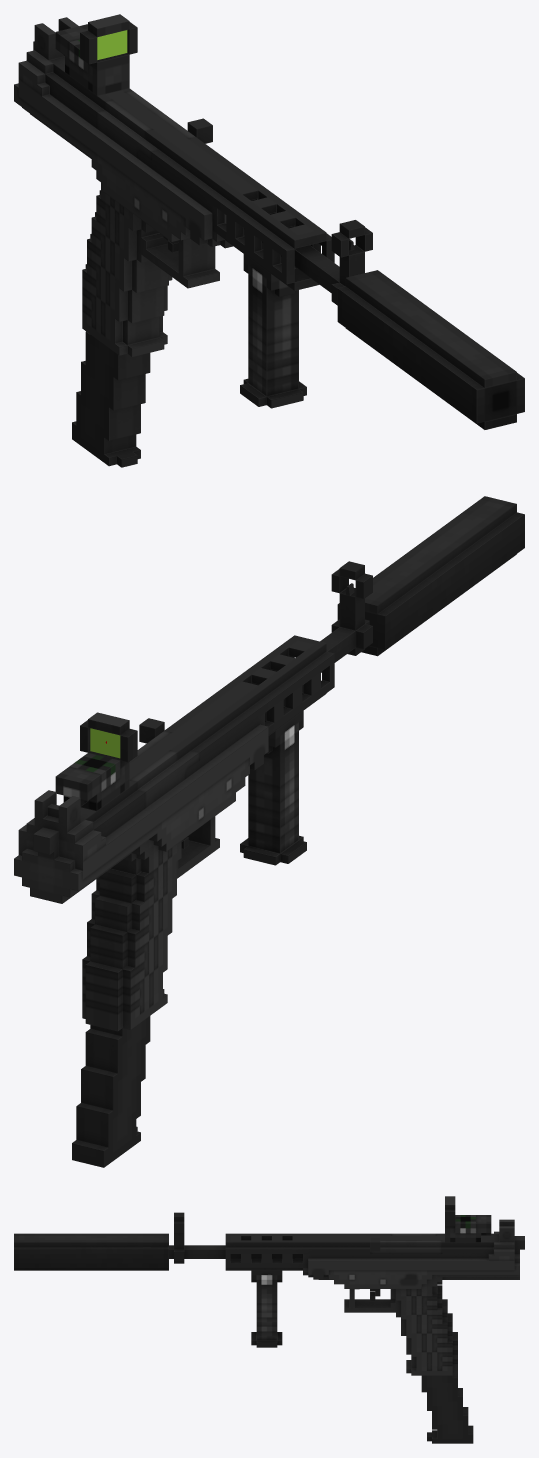
Rendered from RD_GONCZGA9.glb.
3 views of the same model, one above another, from view 1: azimuth 30°, elevation 25°; view 2: azimuth 150°, elevation 25°; view 3: azimuth 270°, elevation 25° (orthographic). The views are drawn at different scales.
Parts seen in each view (by area): view 1: GONCZ_GA9, SILENCER_6X6, GONCZ_GA9_CLIP, GRIP1, SCOPE_AIMPOINT; view 2: GONCZ_GA9, SILENCER_6X6, GONCZ_GA9_CLIP, GRIP1, SCOPE_AIMPOINT; view 3: GONCZ_GA9, SILENCER_6X6, GONCZ_GA9_CLIP, GRIP1, SCOPE_AIMPOINT.
Boxes of the visible parts, x1,y1,x2,y2 form: GONCZ_GA9: (14, 17, 372, 356); SILENCER_6X6: (337, 270, 524, 429); GONCZ_GA9_CLIP: (72, 331, 150, 467); GRIP1: (240, 254, 306, 408); SCOPE_AIMPOINT: (55, 14, 137, 95); GONCZ_GA9: (14, 561, 372, 1031); SILENCER_6X6: (337, 496, 524, 656); GONCZ_GA9_CLIP: (72, 1016, 150, 1167); GRIP1: (240, 711, 306, 865); SCOPE_AIMPOINT: (55, 712, 137, 811); GONCZ_GA9: (169, 1212, 524, 1375); SILENCER_6X6: (14, 1233, 168, 1270); GONCZ_GA9_CLIP: (421, 1373, 473, 1443); GRIP1: (251, 1270, 282, 1347); SCOPE_AIMPOINT: (445, 1196, 491, 1242).
Bounding box in the file's own units: 0.0787 × 0.502 × 0.9744.
5 materials, 5 textured.
